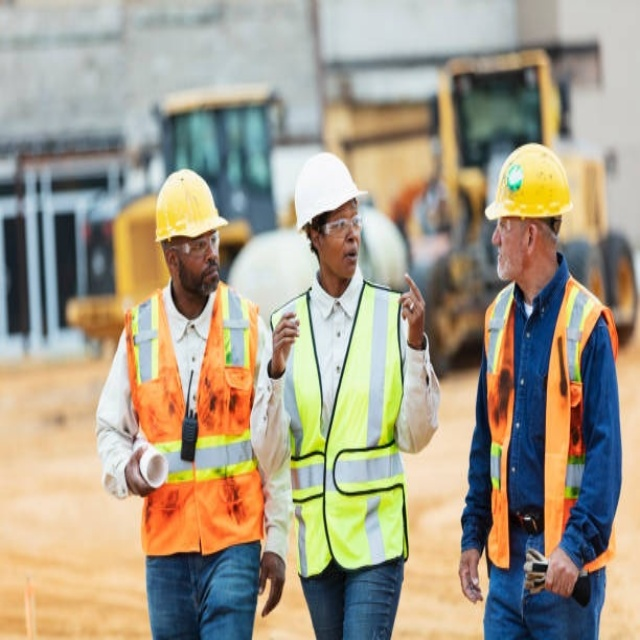Gafas: (169, 232, 221, 257), (320, 215, 363, 236), (495, 217, 535, 235)
Sin_guantes: (540, 545, 582, 599), (398, 268, 428, 337), (268, 307, 302, 362), (258, 551, 286, 615), (458, 547, 485, 604)
Sin_mascara: (198, 260, 222, 292), (492, 243, 512, 276), (341, 248, 363, 268)
